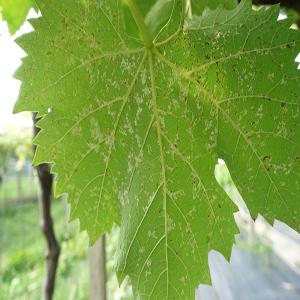Folha: (11, 0, 298, 298)
Fungo: (76, 95, 142, 184), (170, 84, 221, 152), (199, 20, 239, 87), (53, 22, 100, 64), (76, 0, 120, 42), (234, 46, 258, 96), (159, 56, 188, 97), (80, 44, 104, 87), (123, 135, 142, 177), (44, 132, 70, 161), (268, 153, 293, 183), (200, 119, 221, 151), (200, 188, 216, 229), (182, 222, 199, 254), (272, 110, 290, 140), (113, 182, 132, 209), (130, 87, 145, 121), (164, 179, 185, 200), (141, 188, 159, 212), (104, 46, 121, 70), (118, 76, 138, 96), (90, 116, 105, 141), (178, 74, 189, 108), (241, 123, 254, 150), (121, 54, 137, 74), (121, 112, 133, 138), (164, 212, 178, 234), (104, 127, 116, 152), (255, 100, 267, 124), (167, 90, 180, 112), (103, 73, 118, 92), (255, 42, 272, 58), (265, 205, 275, 223), (280, 72, 291, 88), (84, 204, 97, 217), (139, 66, 147, 86), (66, 180, 79, 192), (284, 35, 292, 52), (180, 271, 189, 286), (90, 186, 100, 197), (104, 190, 111, 205), (136, 254, 144, 267), (147, 229, 157, 239), (73, 187, 83, 196), (279, 59, 287, 70), (269, 70, 275, 84), (144, 269, 152, 278), (140, 246, 148, 254), (146, 257, 152, 267), (74, 197, 79, 207)
